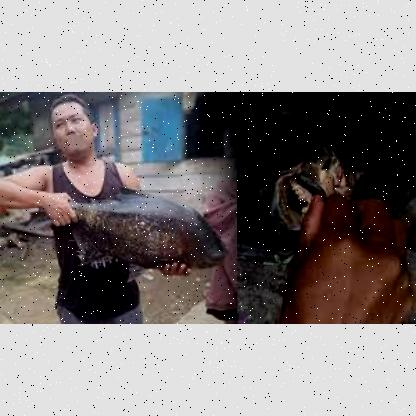ikan-pacu: (54, 191, 228, 272)
